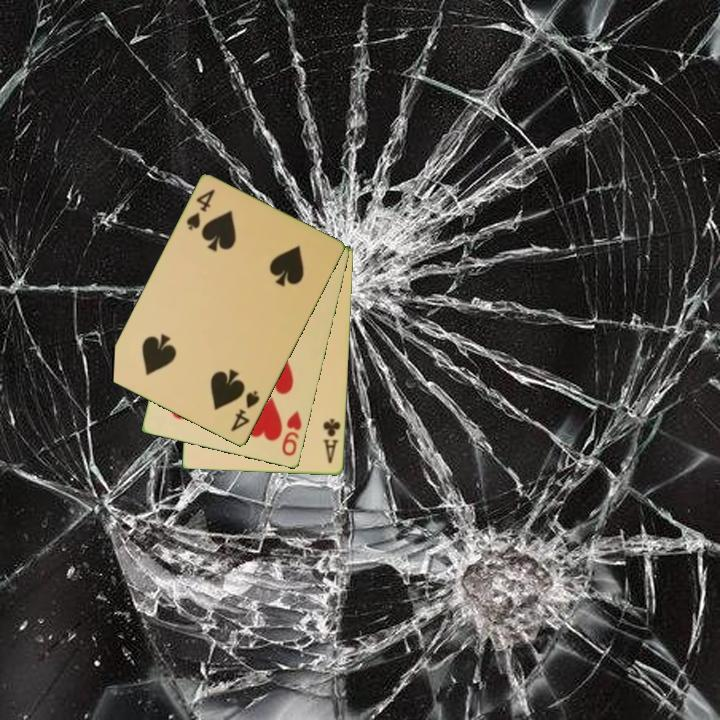4s: (227, 388, 263, 435), (183, 186, 218, 234)
9h: (278, 407, 305, 459)
Ac: (320, 415, 344, 466)
